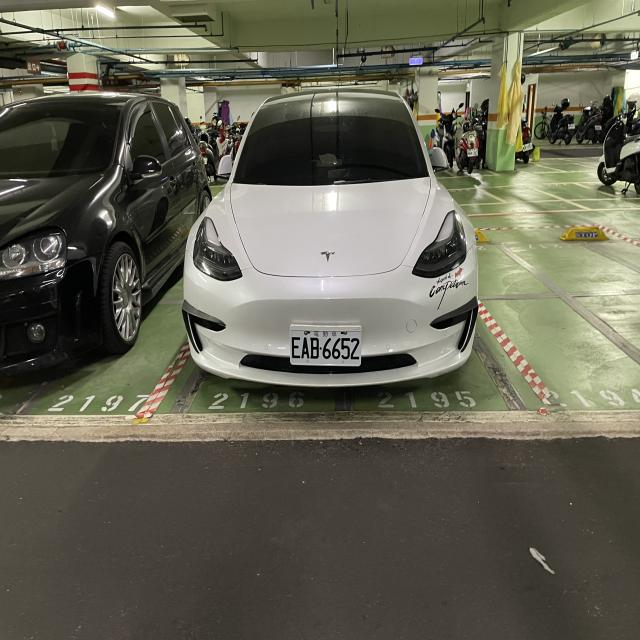license-plate: (290, 324, 361, 366)
